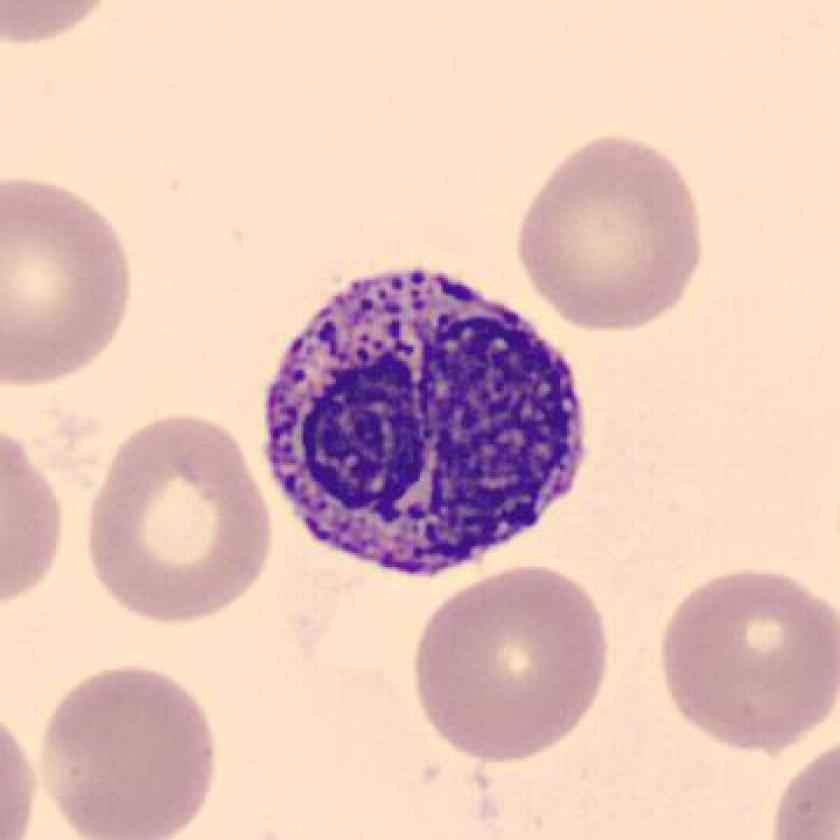basophil: (270, 258, 592, 577)
